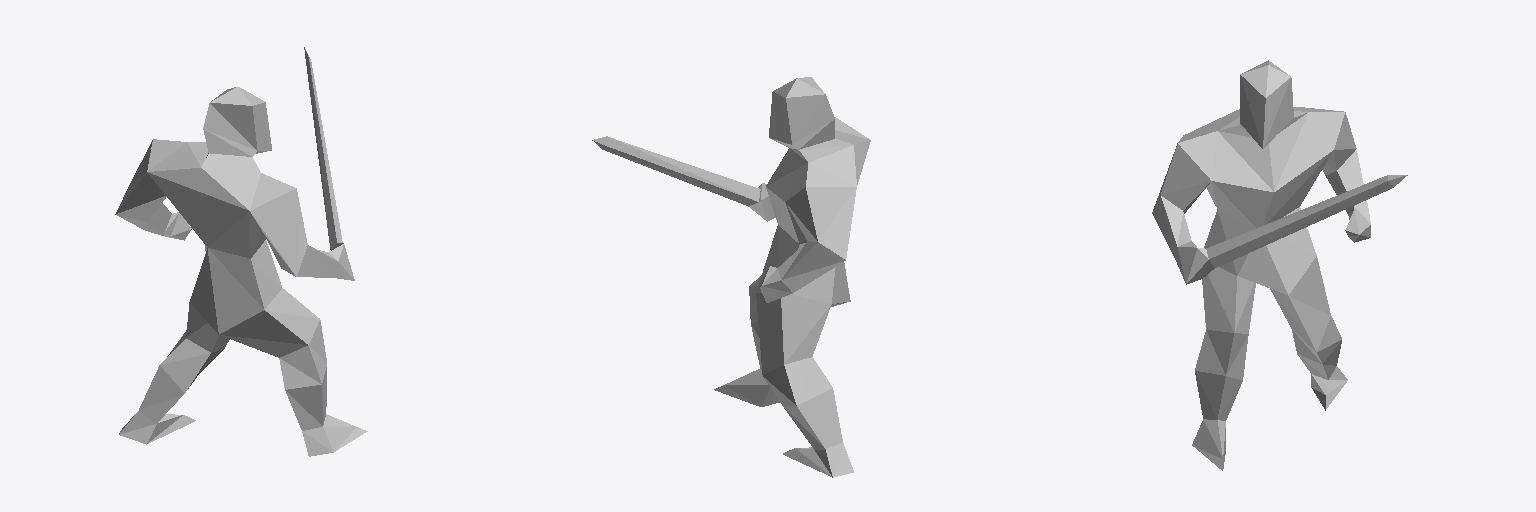
The model's file is guard.obj.
3 renders of one model, left to right at view 1: azimuth 30°, elevation 25°; view 2: azimuth 150°, elevation 25°; view 3: azimuth 270°, elevation 25°, orthographic.
Parts seen in each view (by area): view 1: D:\Games\Quake\pakexplorer\progs\knight; view 2: D:\Games\Quake\pakexplorer\progs\knight; view 3: D:\Games\Quake\pakexplorer\progs\knight.
Boxes of the visible parts, <box> form: D:\Games\Quake\pakexplorer\progs\knight: <box>115,47,367,456</box>; D:\Games\Quake\pakexplorer\progs\knight: <box>592,77,870,477</box>; D:\Games\Quake\pakexplorer\progs\knight: <box>1152,60,1407,470</box>.
Size of the model in its own units: 31.73 by 48.58 by 31.39.